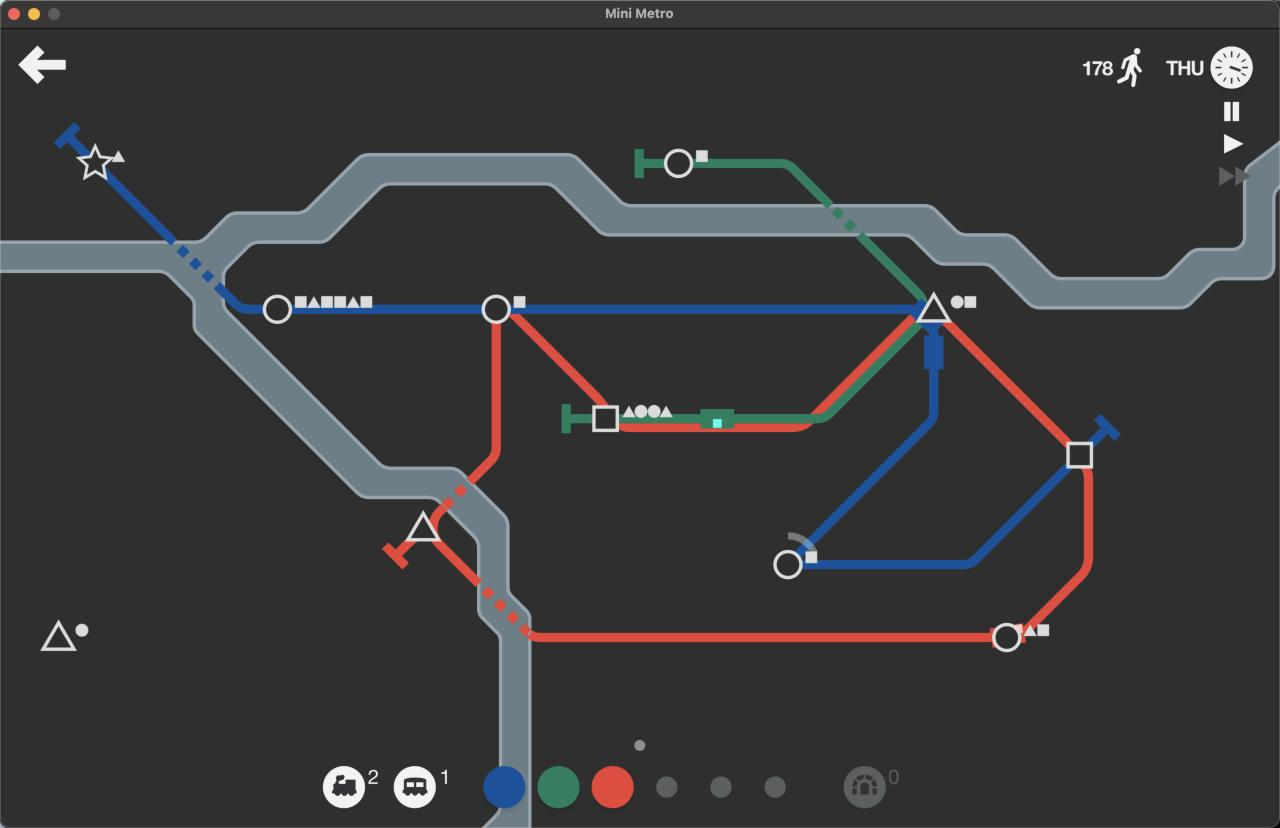CIRCLE: (772, 548, 804, 580), (262, 293, 293, 325), (991, 622, 1023, 653), (481, 294, 512, 325), (664, 148, 694, 179)
SQUARE: (591, 404, 619, 433), (1066, 441, 1094, 469)
STAR: (74, 142, 123, 180)
TRIANGLE: (914, 291, 955, 326), (40, 618, 79, 653), (405, 509, 442, 542)
